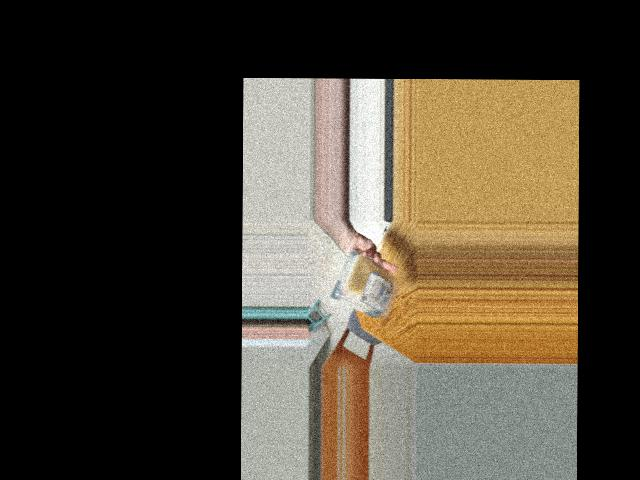cheese: (331, 266, 394, 318)
